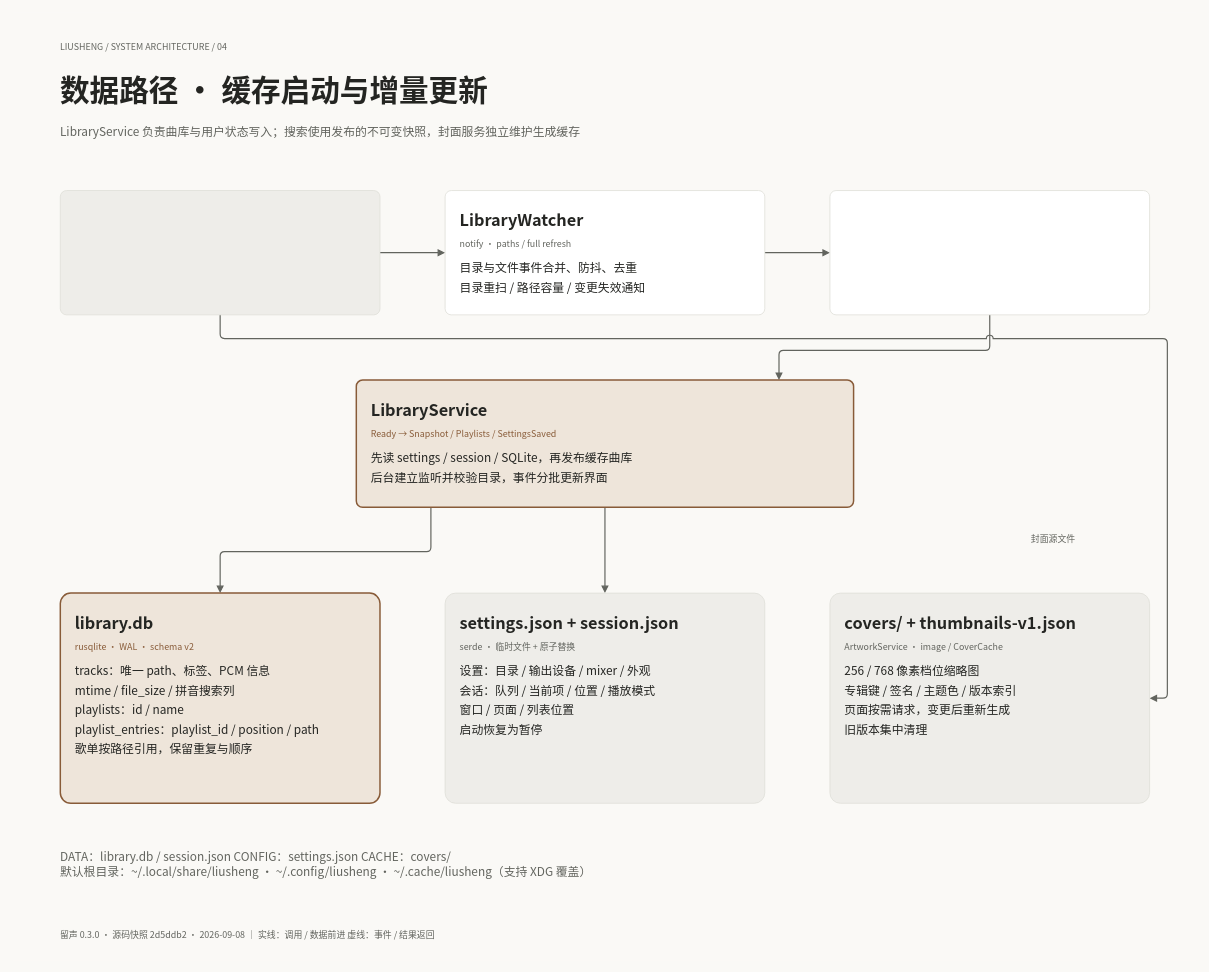
The diagram is 1209 pixels wide and 972 high, and some of its shapes have lost their labels. The shapes that lost their labels are listed below. From the top down, each one's centre as x and y in pixels, then its label:
the point at 220,252: 音乐目录与伴随文件 多个根目录 / 排除目录 音频文件 · 封面图片 · LRC mtime + file_size 识别变化
the point at 989,252: Library / 标签与拼音 walkdir · lofty · pinyin 启动校验 / 路径更新 / 128 条批次 离线与失败范围保留缓存记录
